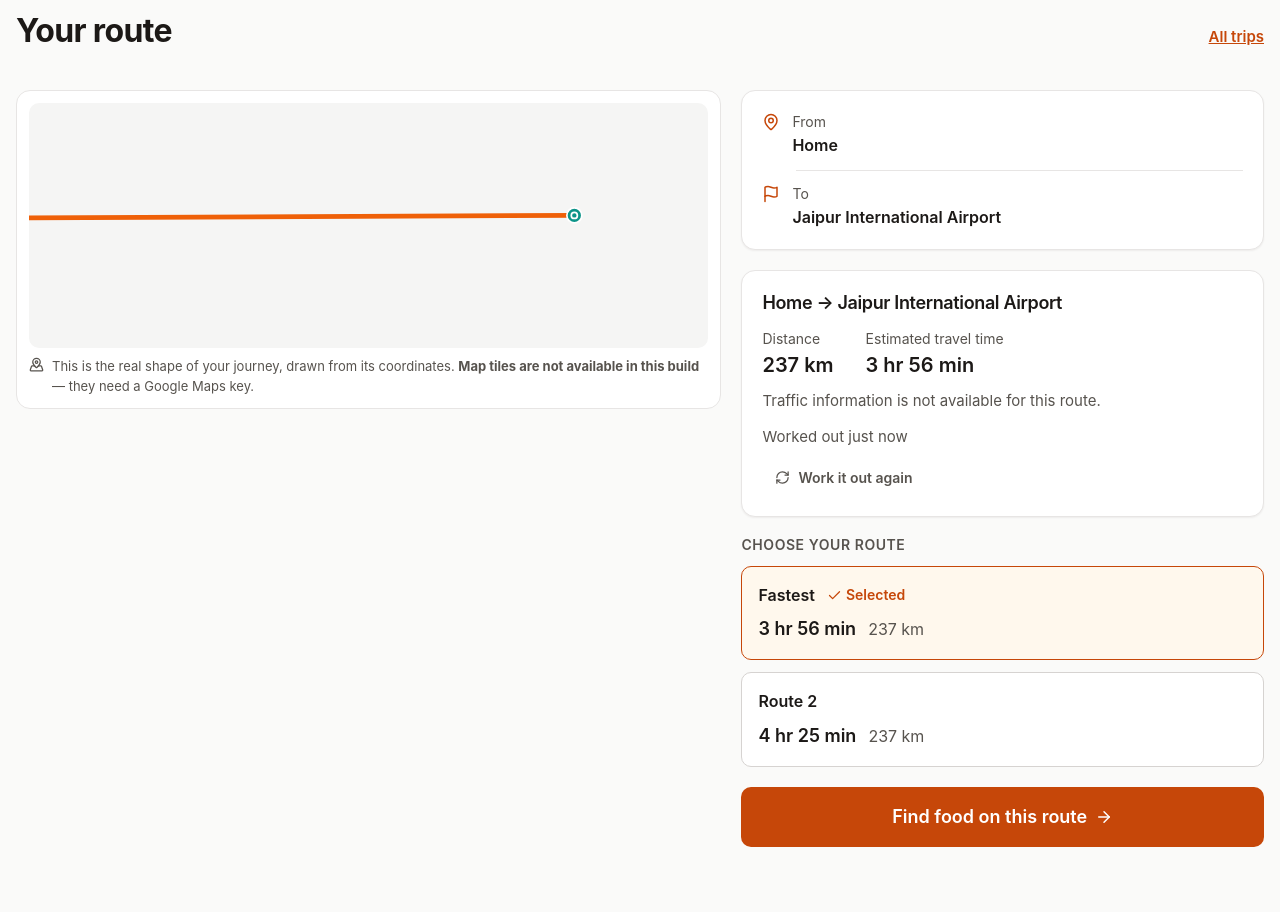
it: RouteScreen › takes the selection from the server, not from a local flag
Expected: the heading "Choose your route" is shown, [741,536,905,553]
Click the button with aria-label "Route 2." at (788, 701), box [741,672,1264,767]
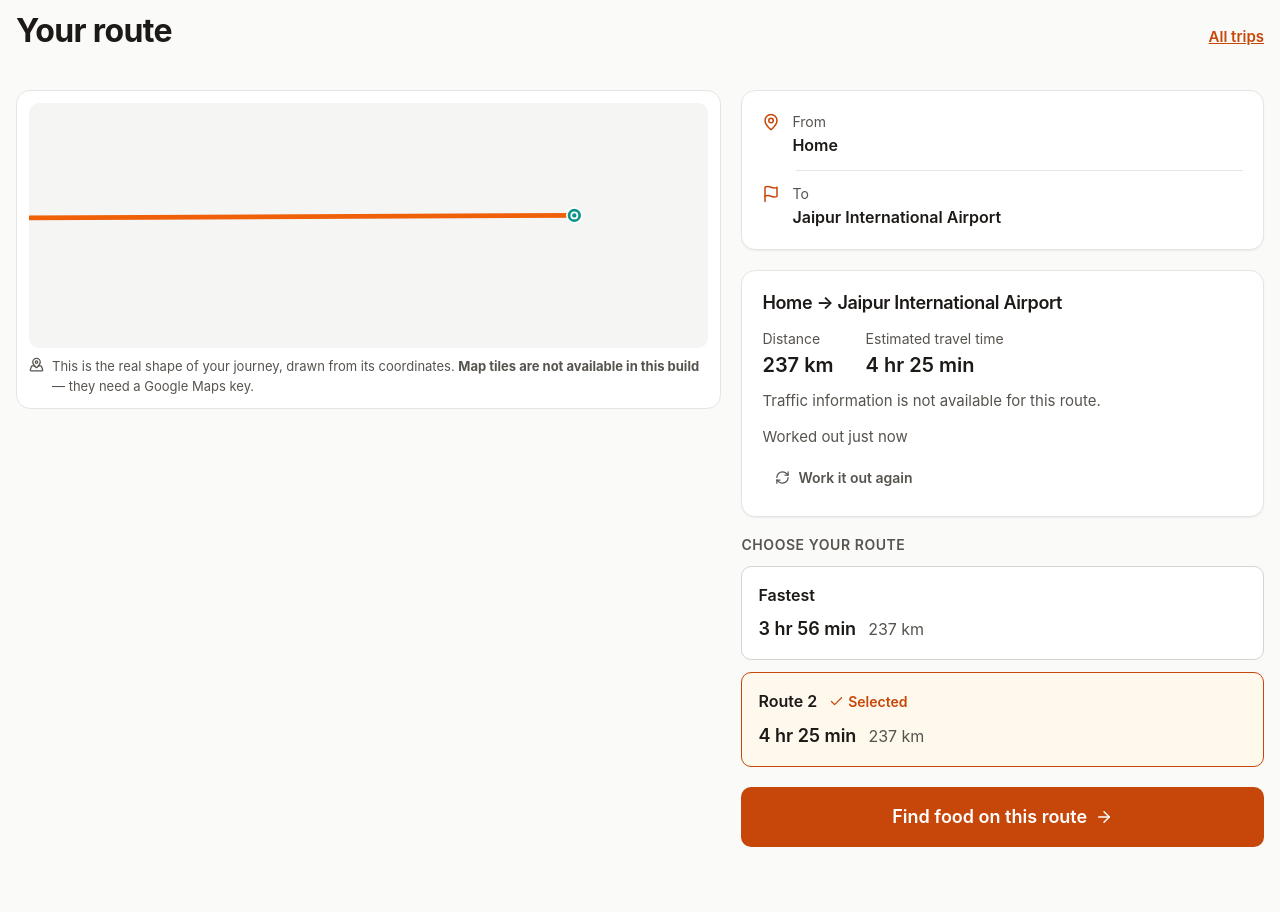
Expected: the button "Route 2 Selected 4 hr 25 min 237 km" is shown, [741,672,1264,767]
